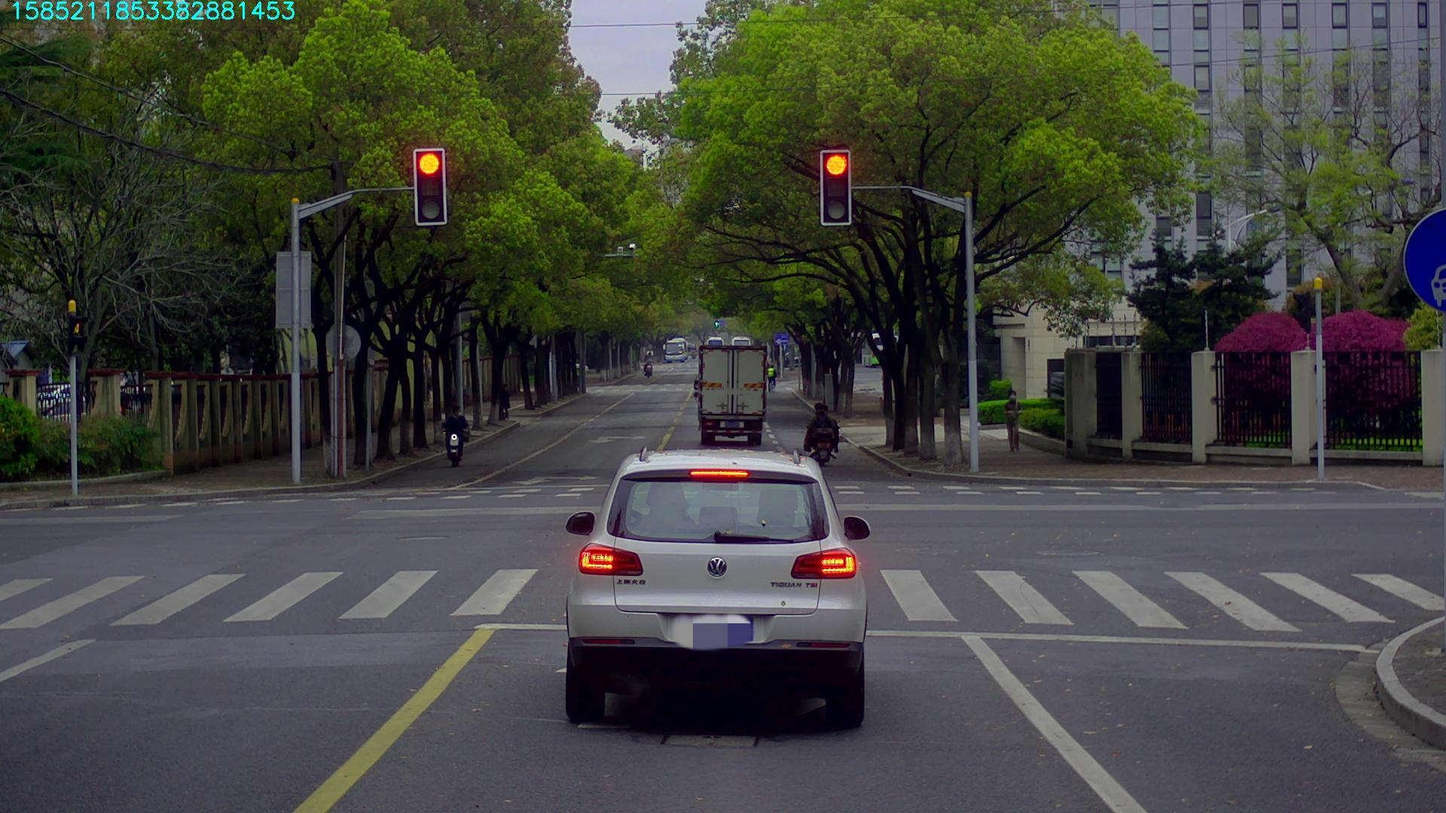red: (414, 149, 444, 224), (821, 153, 849, 223)
